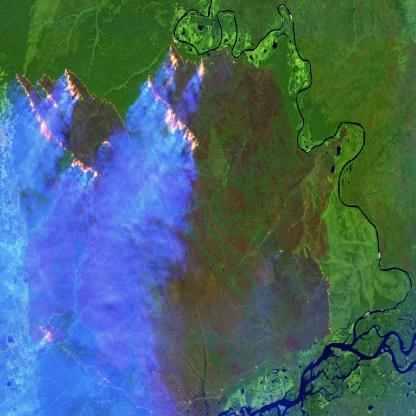fire: (12, 69, 129, 182), (142, 40, 210, 160), (314, 246, 338, 340), (34, 320, 56, 352)
